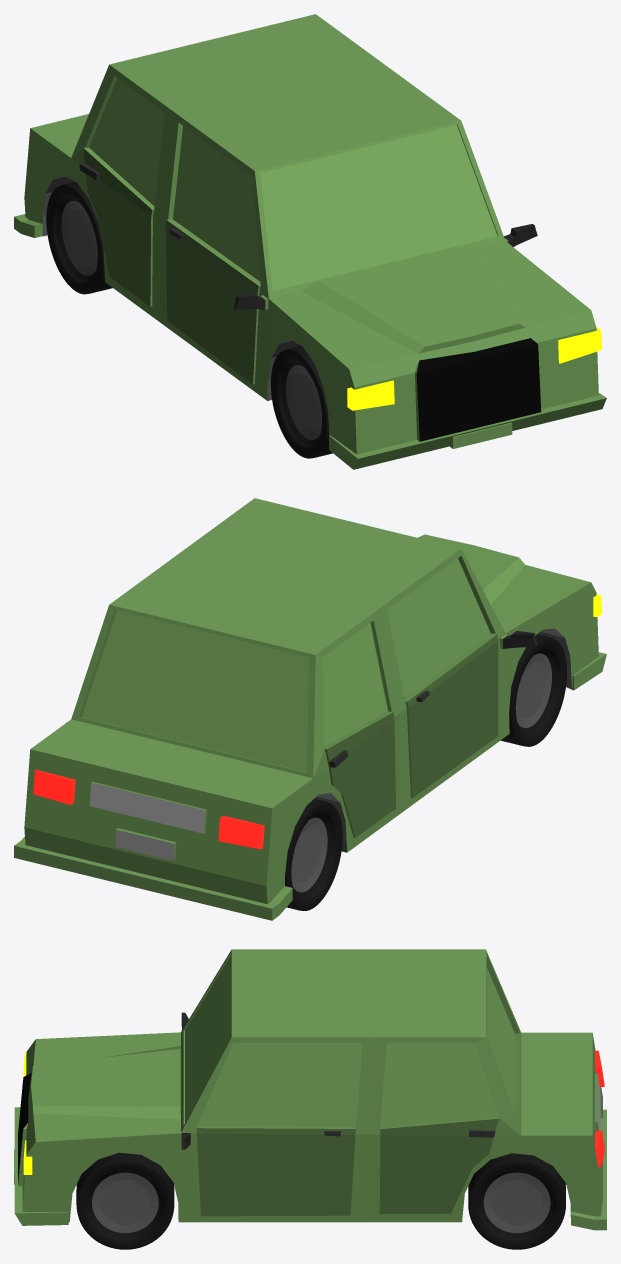
File: simple_car_low_poly.glb
3 renders of one model, top to bottom at view 1: azimuth 30°, elevation 25°; view 2: azimuth 150°, elevation 25°; view 3: azimuth 270°, elevation 25°, orthographic. The views are drawn at different scales.
Parts seen in each view (by area): view 1: SimpleCar_Body_4, SimpleCar_Body_Tire_FR_3, SimpleCar_Body_Tire_BR_1; view 2: SimpleCar_Body_4, SimpleCar_Body_Tire_FR_3, SimpleCar_Body_Tire_BR_1; view 3: SimpleCar_Body_4, SimpleCar_Body_Tire_FL_2, SimpleCar_Body_Tire_BL_0.
Boxes of the visible parts, x1,y1,x2,y2 form: SimpleCar_Body_4: (14,14,606,469); SimpleCar_Body_Tire_FR_3: (270,346,332,458); SimpleCar_Body_Tire_BR_1: (46,182,112,294); SimpleCar_Body_4: (14,498,606,920); SimpleCar_Body_Tire_FR_3: (501,634,566,746); SimpleCar_Body_Tire_BR_1: (285,798,342,910); SimpleCar_Body_4: (14,949,606,1230); SimpleCar_Body_Tire_FL_2: (76,1152,174,1249); SimpleCar_Body_Tire_BL_0: (468,1153,565,1249).
Size of what is drawn, in the model's own units: 1.73 by 1.29 by 3.37.
